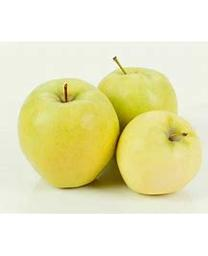apple: (17, 77, 120, 188), (115, 110, 202, 195), (97, 61, 178, 129)
